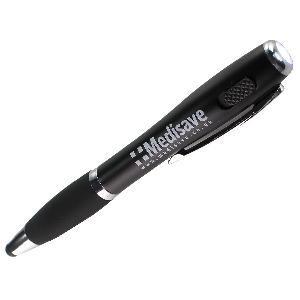pen: (1, 38, 300, 258)
